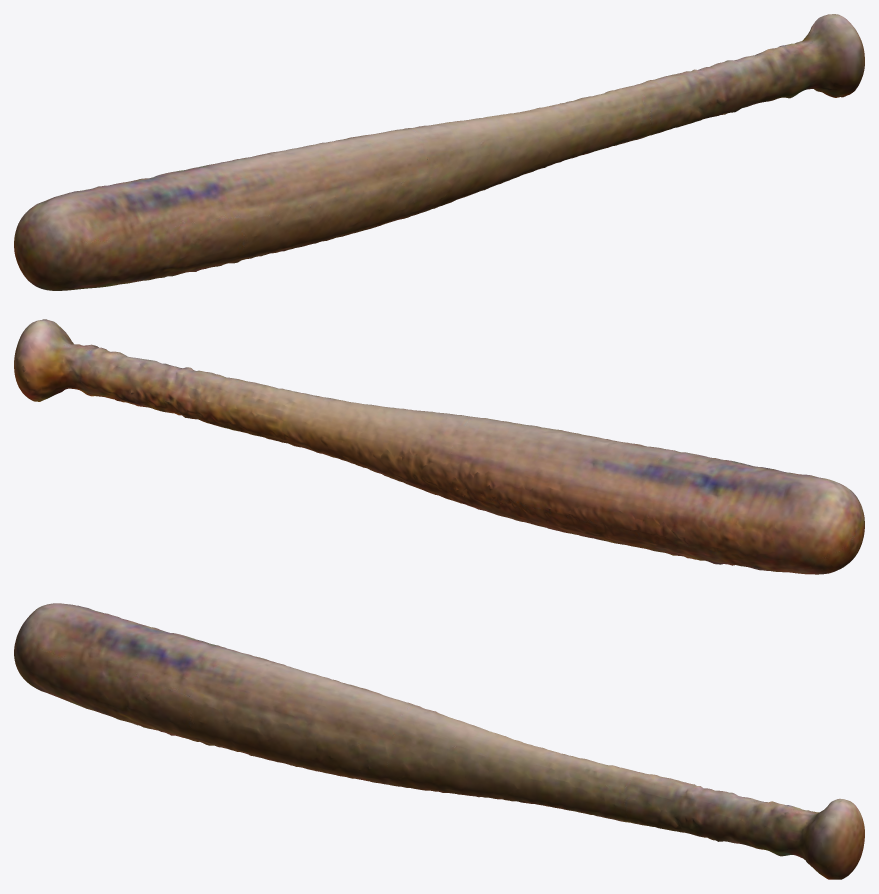
The model's file is bat.glb.
The picture shows the model from 3 angles, top to bottom: view 1: azimuth 30°, elevation 25°; view 2: azimuth 150°, elevation 25°; view 3: azimuth 330°, elevation 25°; orthographic projection. The views are drawn at different scales.
Parts seen in each view (by area): view 1: Mesh1; view 2: Mesh1; view 3: Mesh1.
Part boxes in pixels (left/top/right/bottom): Mesh1: left=14, top=14, right=864, bottom=290; Mesh1: left=14, top=319, right=864, bottom=574; Mesh1: left=14, top=603, right=864, bottom=879.
Size of the model in its own units: 1.2 by 0.1399 by 0.1408.
1 material, 1 textured.
